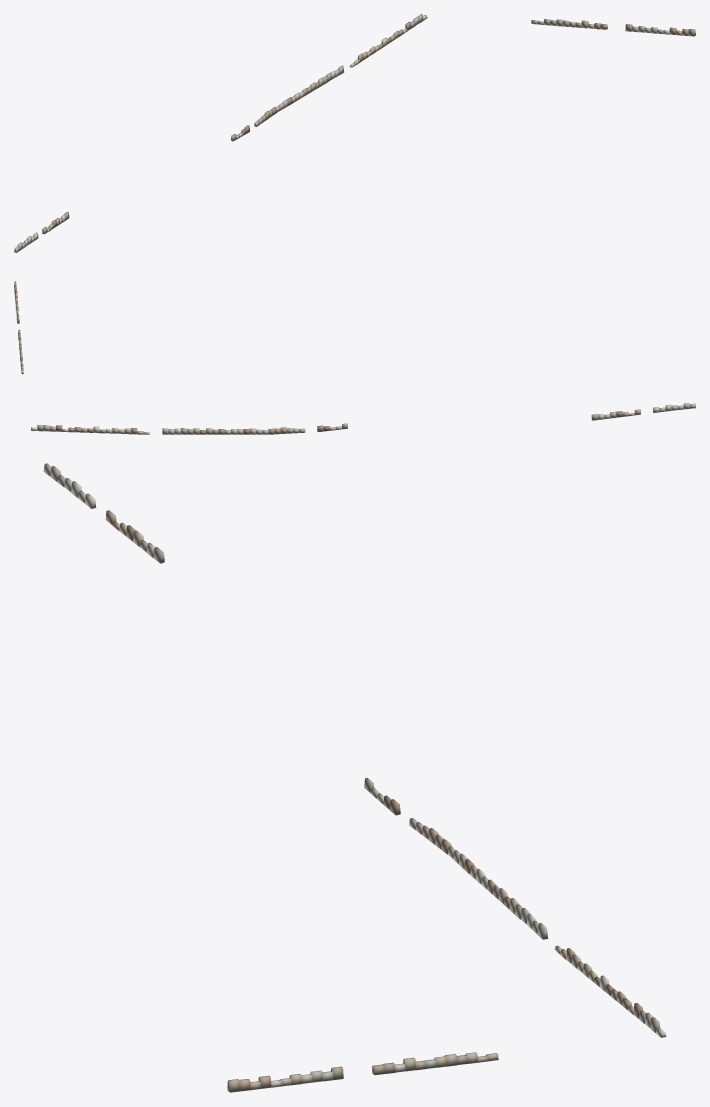
The model's file is farm_-3_3_collision.glb.
3 views of the same model, one above another, from view 1: azimuth 30°, elevation 25°; view 2: azimuth 150°, elevation 25°; view 3: azimuth 270°, elevation 25° (orthographic). The views are drawn at different scales.
Visible parts, largest first — view 1: geometry_0; view 2: geometry_0; view 3: geometry_0.
Part boxes in pixels (x1,y1,x2,y2): geometry_0: (14,14,695,252); geometry_0: (14,281,695,434); geometry_0: (43,463,666,1092).
Size of the model in its own units: 184 by 11.1 by 78.14.
